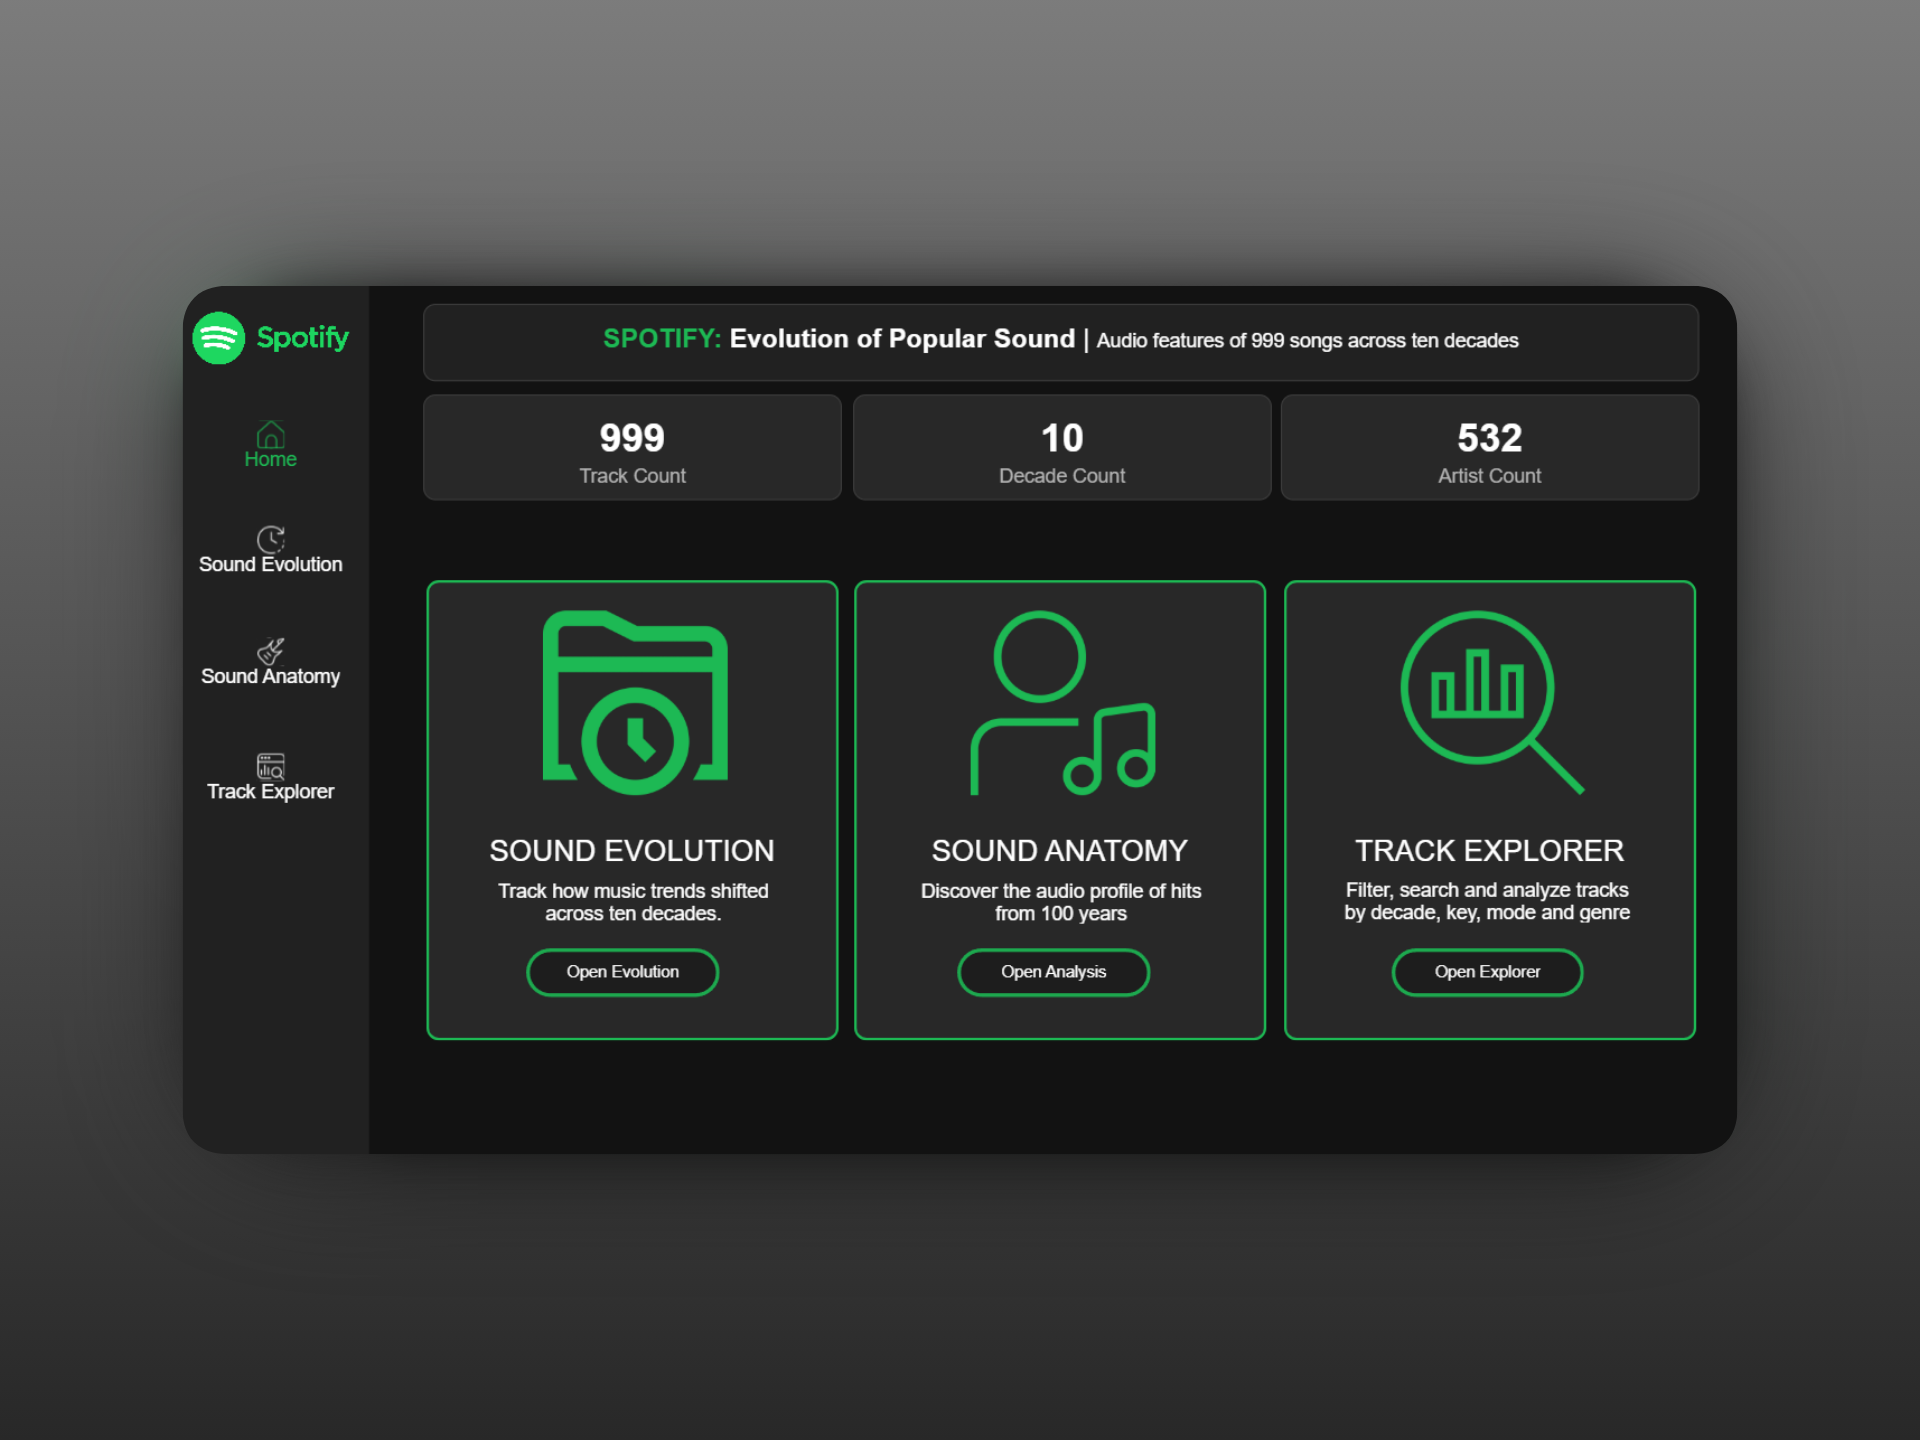

What the dashboard file says about the page in this screenshot:
{"tool":"powerbi","page":{"name":"Main Menu","canvas":[1280,720],"ordinal":0},"visuals":[{"type":"textbox","box":[204,20.1,1035.9,63.3],"z":0},{"type":"shape","box":[206.3,245,334.6,373.8],"z":0,"group":"g4"},{"type":"shape","box":[554,245,334.6,373.8],"z":0,"group":"g1"},{"type":"shape","box":[902.6,245,334.6,373.8],"z":0,"group":"g2"},{"type":"card","title":"Tracks","fields":{"Values":["_Measures.Track Count"]},"box":[204,93.4,340,86.4],"z":1000},{"type":"textbox","box":[231.4,445.9,283.3,45.2],"z":1000,"group":"g4"},{"type":"textbox","box":[579.1,445.9,283.3,45.2],"z":1000,"group":"g1"},{"type":"textbox","box":[927.7,445.9,283.3,45.2],"z":1000,"group":"g2"},{"type":"card","fields":{"Values":["_Measures.Decade Count"]},"box":[552.6,93.4,339.6,86.4],"z":2000},{"type":"textbox","box":[943.3,482.9,248.2,76.4],"z":2000,"group":"g2"},{"type":"textbox","box":[255.5,484.1,238.1,60.3],"z":2000,"group":"g4"},{"type":"textbox","box":[603.2,484.1,238.1,60.3],"z":2000,"group":"g1"},{"type":"card","fields":{"Values":["_Measures.Artist Count"]},"box":[900.2,93.4,339.6,86.4],"z":3000},{"type":"actionButton","box":[287.7,544.4,157.2,39.5],"z":3000,"group":"g4"},{"type":"actionButton","box":[637.4,544.4,157.2,39.5],"z":3000,"group":"g1"},{"type":"actionButton","box":[989.8,544.4,156.3,39.5],"z":3000,"group":"g2"},{"type":"shape","box":[0,0,159.7,720.4],"z":4000,"group":"g3"},{"type":"group","id":"g1","title":"Grupa 1","box":[554,245,334.6,373.8],"z":4000},{"type":"image","box":[300.7,258.1,149.7,173.8],"z":4000,"group":"g4"},{"type":"image","box":[648.4,258.1,149.7,173.8],"z":4000,"group":"g1"},{"type":"image","box":[997,258.1,149.7,173.8],"z":4000,"group":"g2"},{"type":"actionButton","box":[0,109.5,159.7,53.2],"z":5000,"group":"g3"},{"type":"group","id":"g2","title":"Grupa 1","box":[902.6,245,334.6,373.8],"z":5000},{"type":"group","id":"g3","title":"Grupa 2","box":[0,0,159.7,720.4],"z":6000},{"type":"actionButton","box":[0,194.9,159.7,53.2],"z":6000,"group":"g3"},{"type":"group","id":"g4","title":"Grupa 1","box":[206.3,245,334.6,373.8],"z":7000},{"type":"actionButton","box":[0,285.3,159.7,53.2],"z":7000,"group":"g3"},{"type":"actionButton","box":[0,378.8,159.7,53.2],"z":8000,"group":"g3"},{"type":"image","box":[0,0,159.7,95.4],"z":11000,"group":"g3"}]}

Visuals, with their boxes on the page's 1280x720 design canvas (x1, y1, x2, y2). These are canvas units, not pixel positions in the 1920x1440 screenshot, which may show the page scaled, cropped or inside an application window:
textbox: bbox=(204, 20, 1240, 83)
shape: bbox=(206, 245, 541, 619)
shape: bbox=(554, 245, 889, 619)
shape: bbox=(903, 245, 1237, 619)
"Tracks" card: bbox=(204, 93, 544, 180)
textbox: bbox=(231, 446, 515, 491)
textbox: bbox=(579, 446, 862, 491)
textbox: bbox=(928, 446, 1211, 491)
card - _Measures.Decade Count: bbox=(553, 93, 892, 180)
textbox: bbox=(943, 483, 1192, 559)
textbox: bbox=(256, 484, 494, 544)
textbox: bbox=(603, 484, 841, 544)
card - _Measures.Artist Count: bbox=(900, 93, 1240, 180)
actionButton: bbox=(288, 544, 445, 584)
actionButton: bbox=(637, 544, 795, 584)
actionButton: bbox=(990, 544, 1146, 584)
shape: bbox=(0, 0, 160, 720)
"Grupa 1" group: bbox=(554, 245, 889, 619)
image: bbox=(301, 258, 450, 432)
image: bbox=(648, 258, 798, 432)
image: bbox=(997, 258, 1147, 432)
actionButton: bbox=(0, 110, 160, 163)
"Grupa 1" group: bbox=(903, 245, 1237, 619)
"Grupa 2" group: bbox=(0, 0, 160, 720)
actionButton: bbox=(0, 195, 160, 248)
"Grupa 1" group: bbox=(206, 245, 541, 619)
actionButton: bbox=(0, 285, 160, 338)
actionButton: bbox=(0, 379, 160, 432)
image: bbox=(0, 0, 160, 95)
